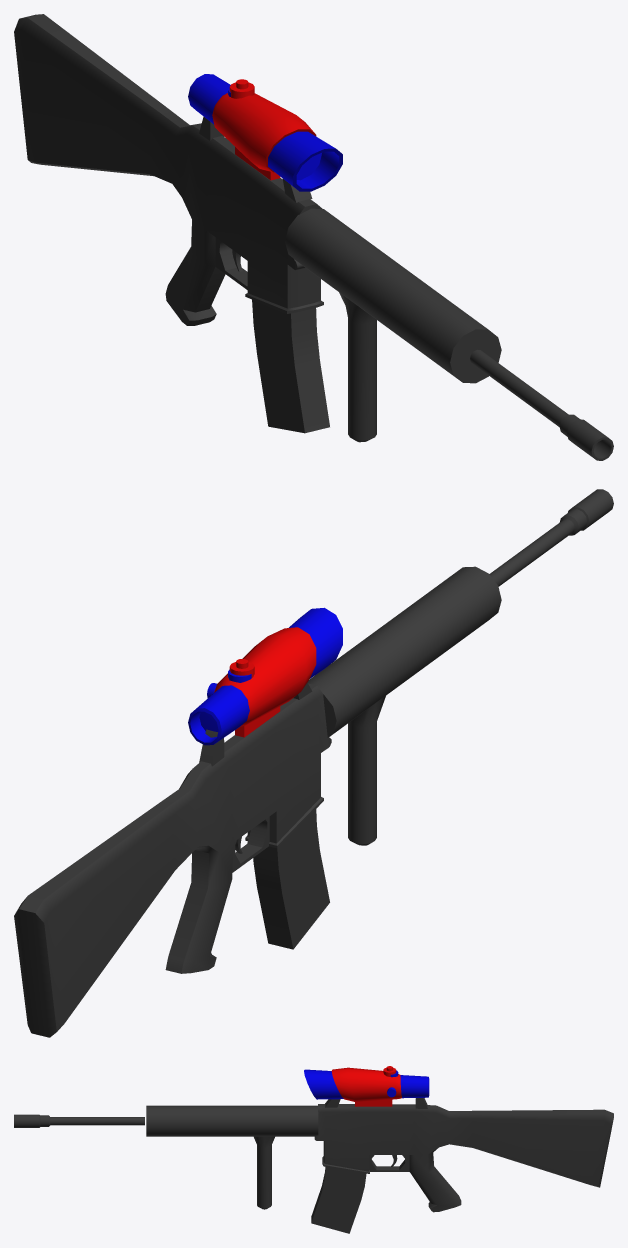
Rendered from Rifle.fbx.
3 renders of one model, top to bottom at view 1: azimuth 30°, elevation 25°; view 2: azimuth 150°, elevation 25°; view 3: azimuth 270°, elevation 25°, orthographic. The views are drawn at different scales.
Parts seen in each view (by area): view 1: RifleBody, SightA, SightB_1, RifleHandle; view 2: RifleBody, SightA, SightB_1; view 3: RifleBody, SightA, SightB_1, RifleHandle.
Part boxes in pixels (<box>): RifleBody: <box>14,14,613,460</box>; SightA: <box>212,79,316,180</box>; SightB_1: <box>188,74,342,191</box>; RifleHandle: <box>199,116,312,202</box>; RifleBody: <box>14,489,613,1037</box>; SightA: <box>214,627,316,737</box>; SightB_1: <box>188,607,342,745</box>; RifleBody: <box>14,1104,613,1233</box>; SightA: <box>331,1066,401,1106</box>; SightB_1: <box>304,1069,429,1099</box>; RifleHandle: <box>325,1098,427,1108</box>.
Size of the model in its own units: 7.63 by 39.36 by 131.
